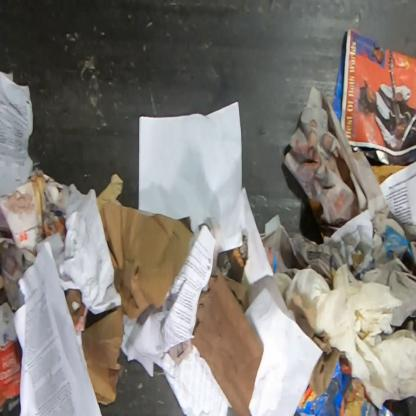cardboard: (82, 173, 194, 406), (190, 270, 264, 416), (0, 301, 23, 412)
soft_plastic: (296, 355, 398, 415)
